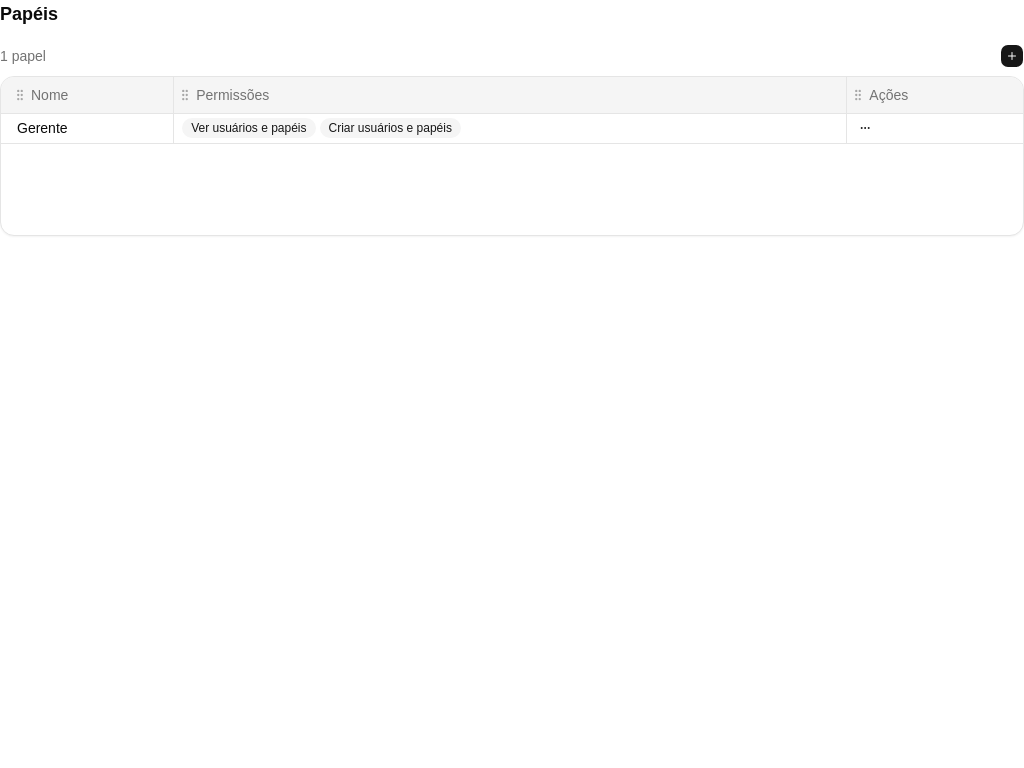
Test: RolesListPage › opens the dialog filled with the role whose row was clicked
Click the button named "Ações de Gerente". click: (865, 128)
box: [855,118,875,138]
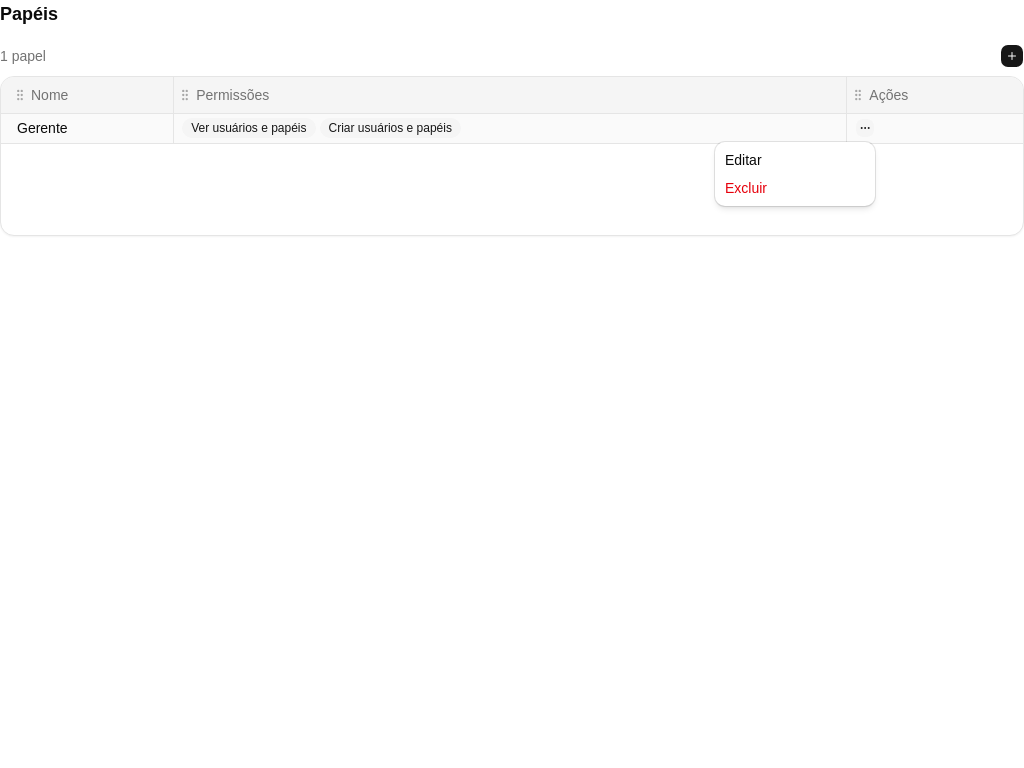
Click the menu item "Editar". click: (743, 160)
box: [725,152,762,168]
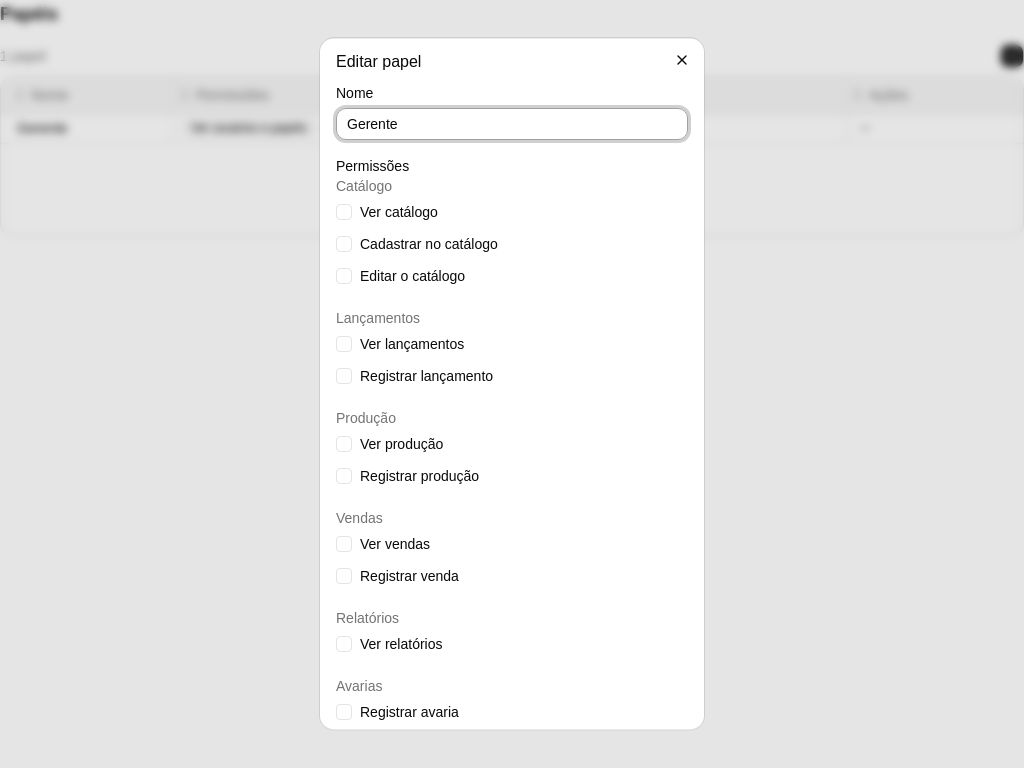
Check: the field labelled "Nome" holds "Gerente", box [336,108,688,140]
